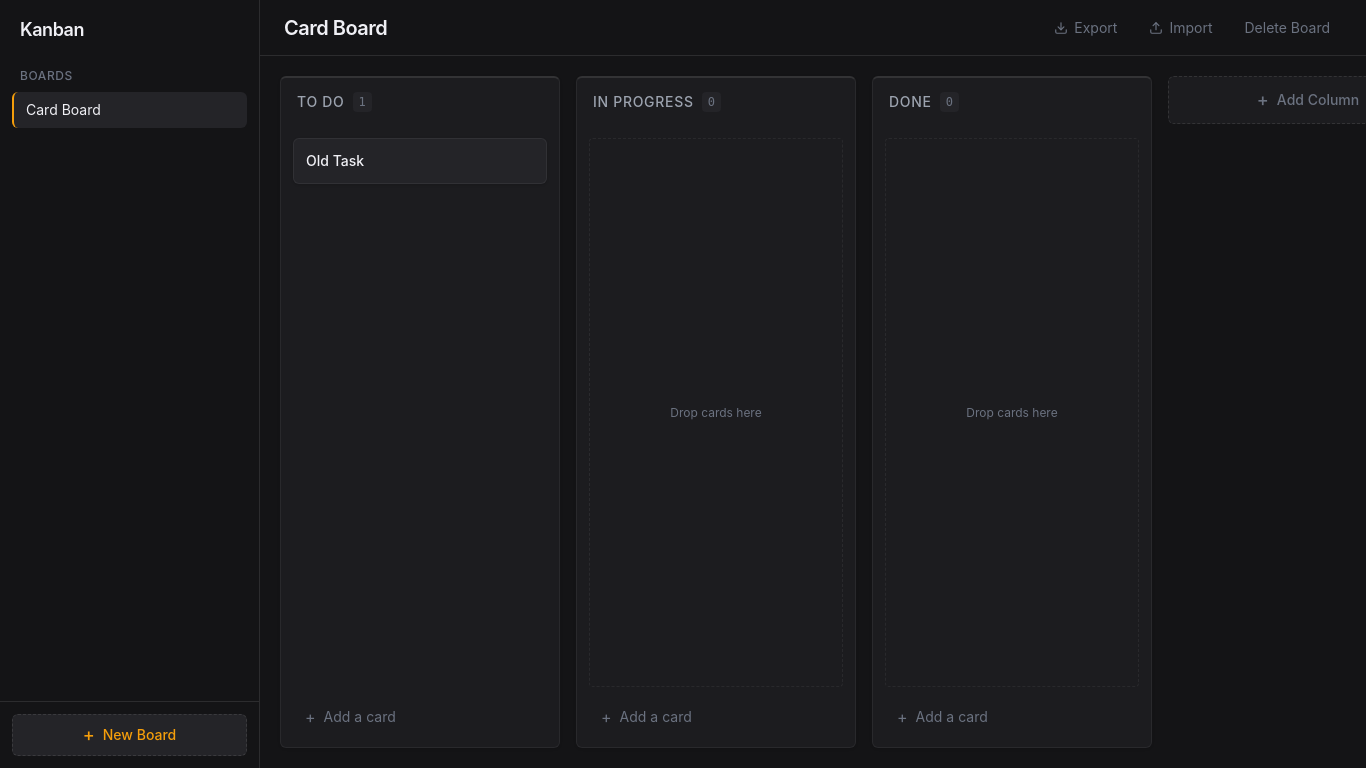
Test: Board lifecycle integration › edits card title via modal
This screenshot has width=1366, height=768.
Click the button "Old Task" at (335, 161), box [306, 151, 364, 171]
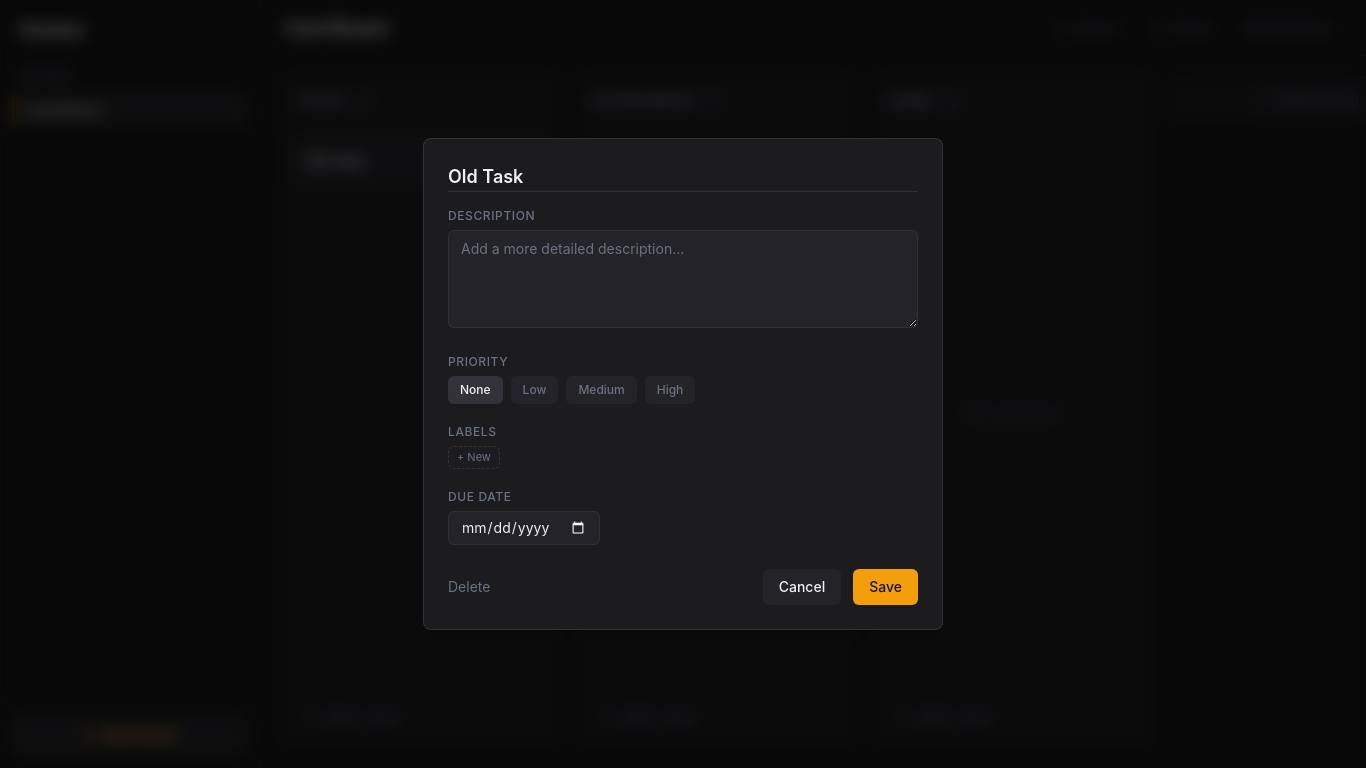
Check: the dialog is shown, box [423, 138, 943, 630]
Replace the text in the field showing "Old Task" with "Updated Task" at (683, 178), box [448, 163, 918, 192]
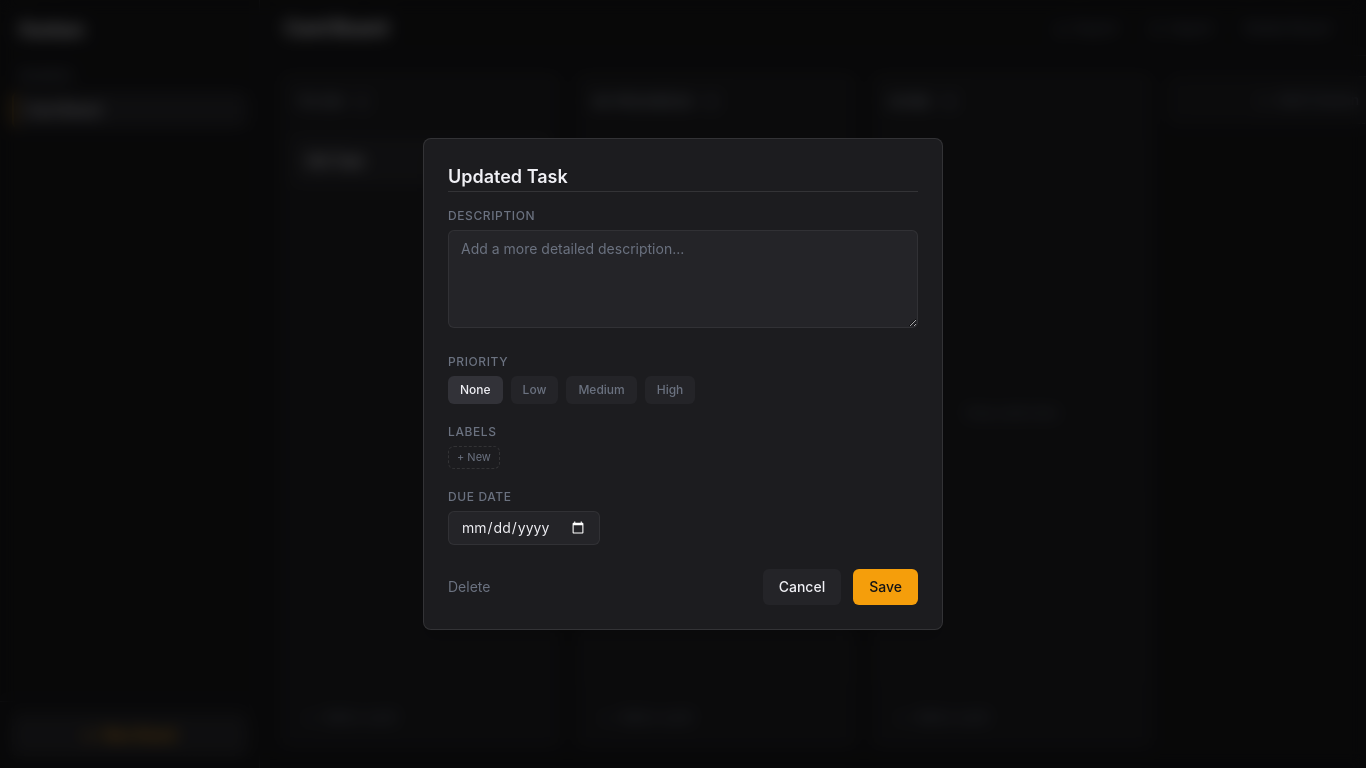
Click the button "Save" at (886, 587), box [853, 569, 918, 605]
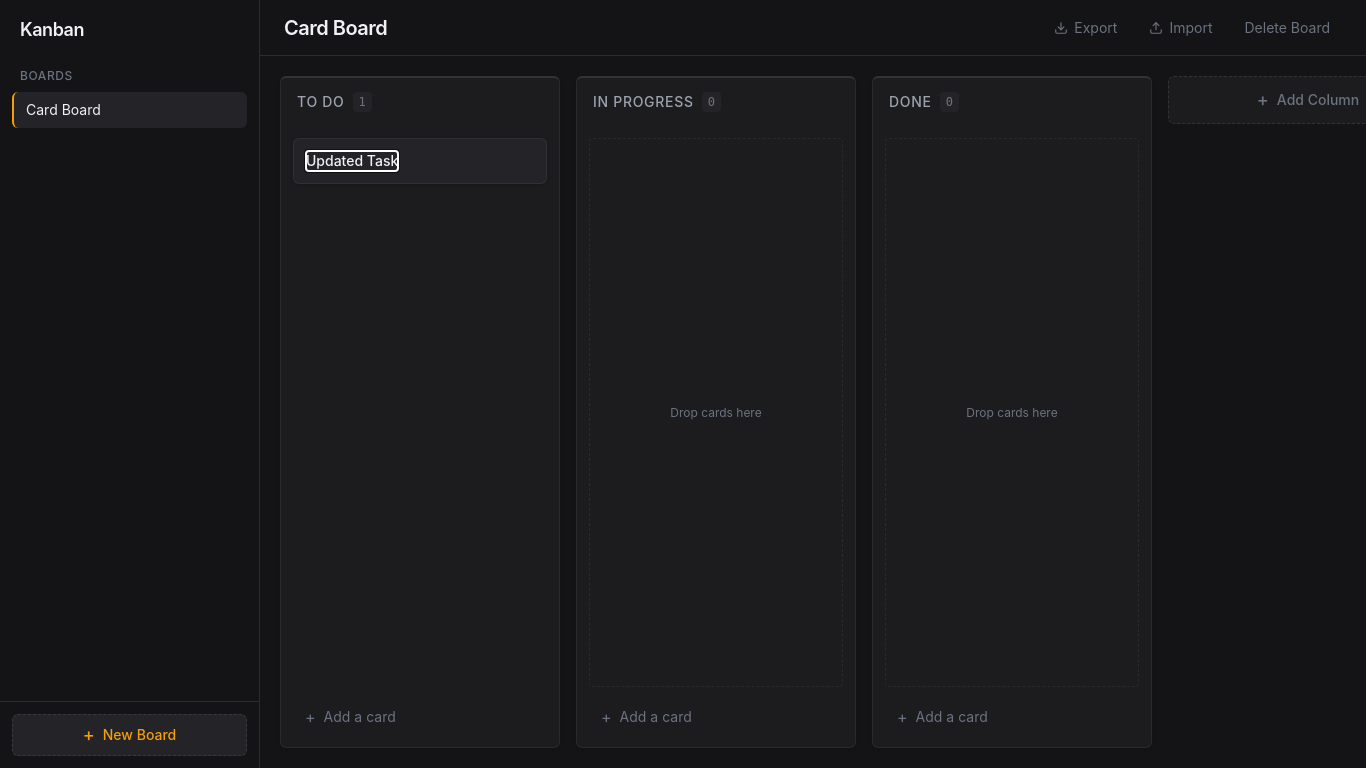
Check: the button "Updated Task" is shown, box [306, 151, 398, 171]
